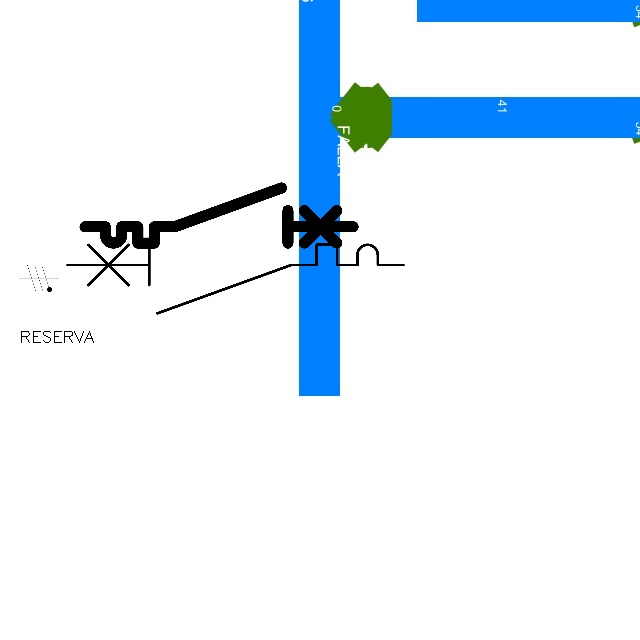interruptor_termomagnetico: (58, 236, 411, 322), (78, 181, 360, 250)
